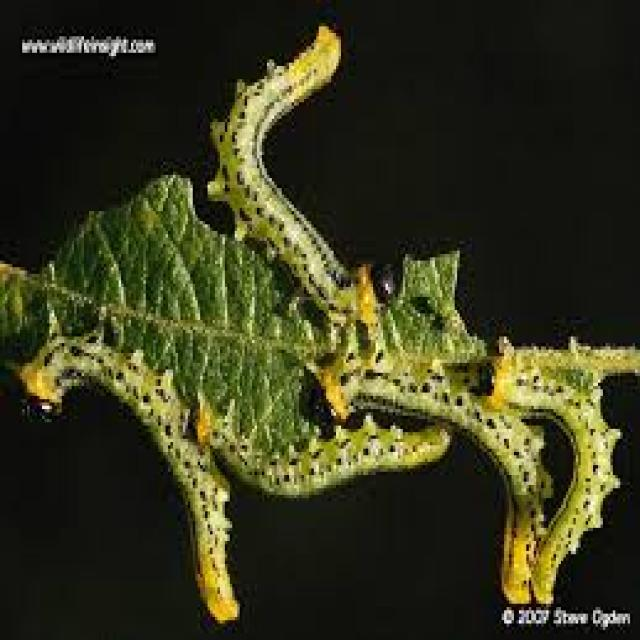Saw Fly: (15, 332, 242, 627), (307, 342, 542, 610), (208, 20, 386, 340), (480, 342, 634, 625), (190, 396, 454, 498)
